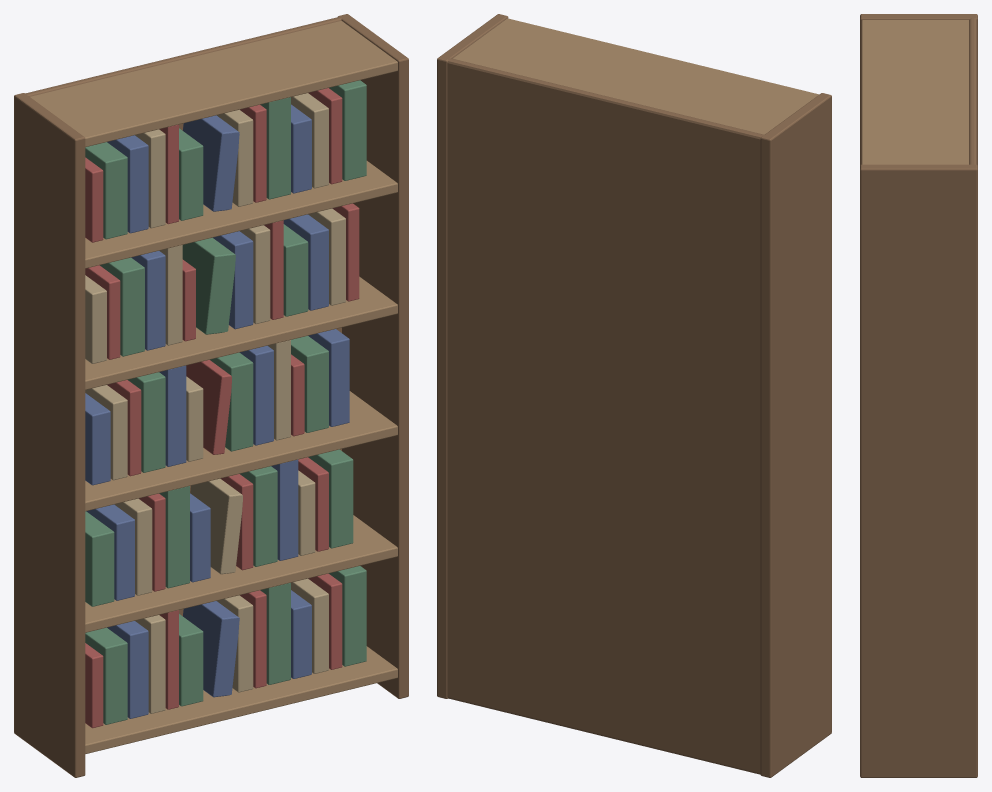
Rendered from bookshelf_tall.glb.
The picture shows the model from 3 angles, left to right: view 1: azimuth 30°, elevation 25°; view 2: azimuth 150°, elevation 25°; view 3: azimuth 270°, elevation 25°; orthographic projection. The views are drawn at different scales.
Parts seen in each view (by area): view 1: Side_-0.53, Side_0.53, Shelf_5, Shelf_2, Shelf_1, Shelf_3, Shelf_4, Shelf_0, Book_3_6, Book_4_6, Book_0_6, Book_1_6 (+65 smaller); view 2: BackBoard, Side_-0.53, Shelf_5, Side_0.53; view 3: Side_0.53, Shelf_5, BackBoard, Side_-0.53.
Part boxes in pixels (box(x1,y1,x2,y2)): Side_-0.53: box(14, 93, 85, 777); Side_0.53: box(338, 14, 408, 698); Shelf_5: box(30, 21, 397, 147); Shelf_2: box(85, 391, 397, 511); Shelf_1: box(85, 515, 397, 632); Shelf_3: box(85, 276, 397, 389); Shelf_4: box(85, 161, 397, 268); Shelf_0: box(85, 646, 397, 753); Book_3_6: box(182, 237, 235, 334); Book_4_6: box(182, 115, 239, 211); Book_0_6: box(183, 601, 239, 697); Book_1_6: box(190, 478, 242, 574); BackBoard: box(444, 57, 768, 774); Side_-0.53: box(760, 93, 831, 777); Shelf_5: box(453, 18, 819, 134); Side_0.53: box(437, 14, 508, 698); Side_0.53: box(860, 164, 977, 777); Shelf_5: box(862, 20, 968, 164); BackBoard: box(969, 15, 976, 166); Side_-0.53: box(860, 14, 977, 165).
Size of the model in its own units: 1.09 by 2 by 0.35.
